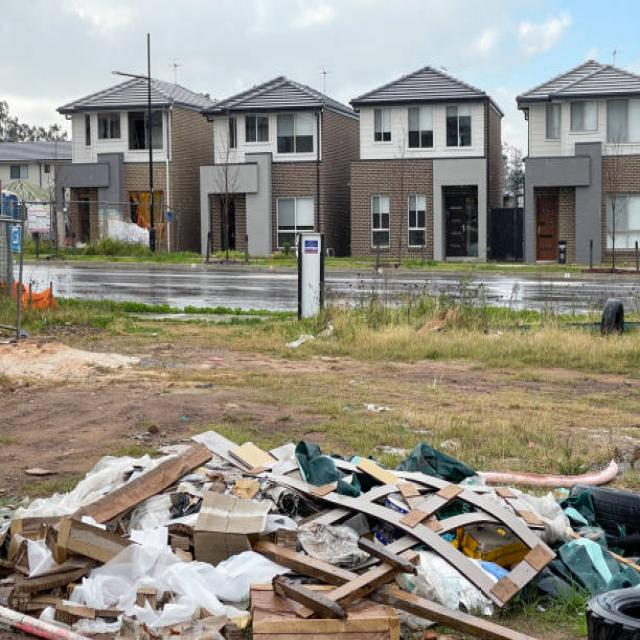cardboard: (195, 489, 271, 558)
plastic: (73, 555, 277, 622), (31, 470, 134, 516), (408, 553, 479, 608)
